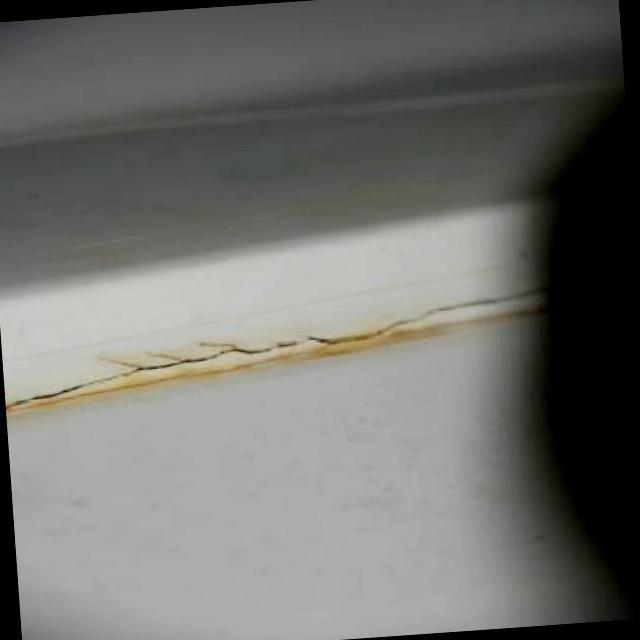crack: (6, 371, 139, 408), (139, 342, 306, 370), (422, 288, 542, 316), (310, 316, 420, 346)
